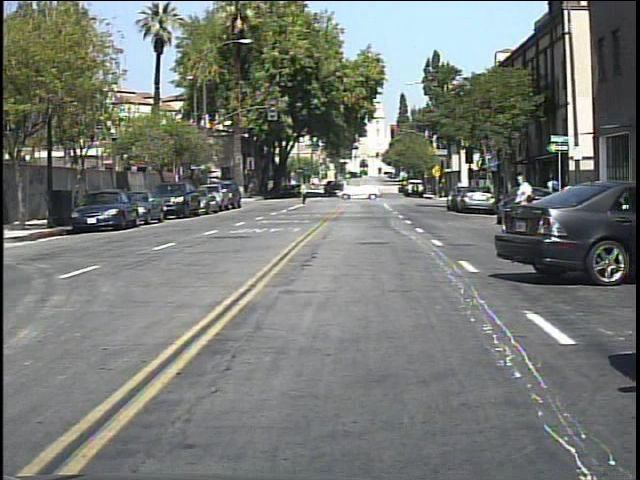person: (508, 167, 541, 245), (544, 169, 564, 216), (297, 176, 314, 209)
